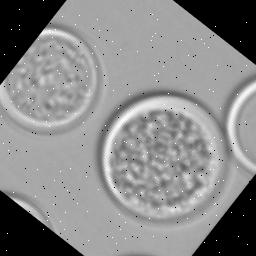picoshell: (96, 89, 230, 229), (0, 23, 104, 135), (223, 74, 256, 172), (3, 190, 57, 232)
